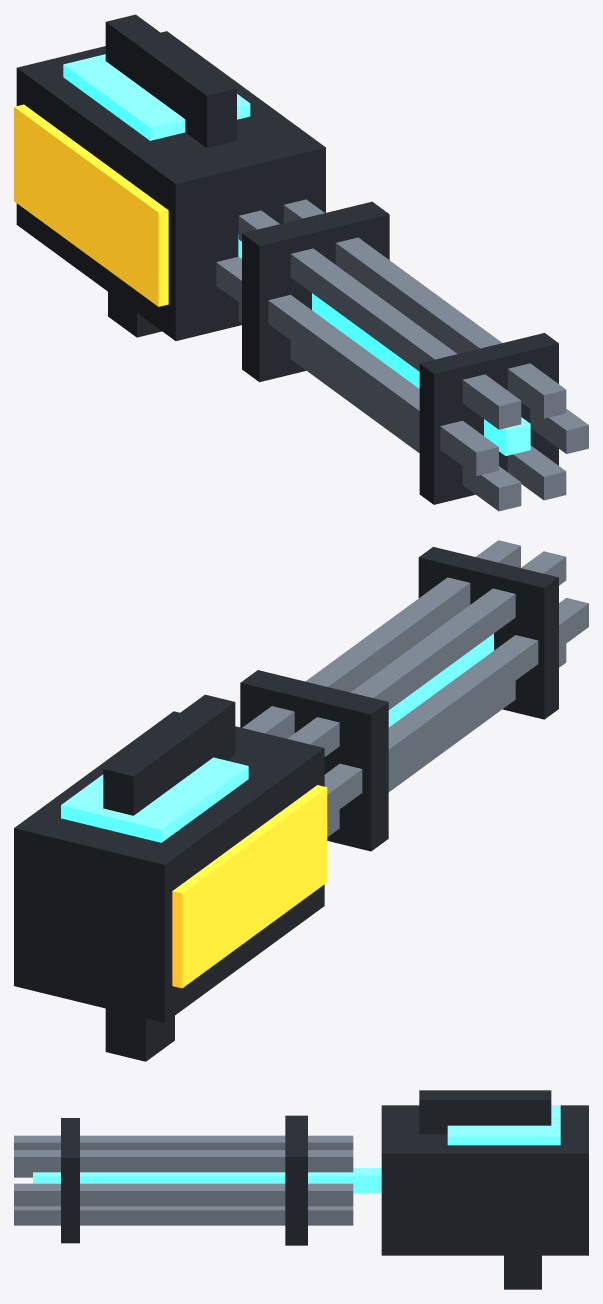
Rendered from w_minigun.glb.
The picture shows the model from 3 angles, top to bottom: view 1: azimuth 30°, elevation 25°; view 2: azimuth 150°, elevation 25°; view 3: azimuth 270°, elevation 25°; orthographic projection. The views are drawn at different scales.
Parts seen in each view (by area): view 1: w_gun_body, w_gun_barrel, w_gun_stripe, w_gun_glow; view 2: w_gun_body, w_gun_barrel, w_gun_stripe, w_gun_glow; view 3: w_gun_body, w_gun_barrel, w_gun_glow.
Boxes of the visible parts, <box> form: w_gun_body: <box>16,14,558,504</box>; w_gun_barrel: <box>216,199,588,511</box>; w_gun_stripe: <box>14,104,168,306</box>; w_gun_glow: <box>63,54,530,455</box>; w_gun_body: <box>14,546,558,1061</box>; w_gun_barrel: <box>242,540,588,836</box>; w_gun_stripe: <box>172,785,327,988</box>; w_gun_glow: <box>61,633,493,842</box>; w_gun_body: <box>61,1090,588,1289</box>; w_gun_barrel: <box>14,1135,353,1225</box>; w_gun_glow: <box>33,1105,560,1193</box>.
Bounding box in the file's own units: 0.32 × 0.55 × 1.52.
